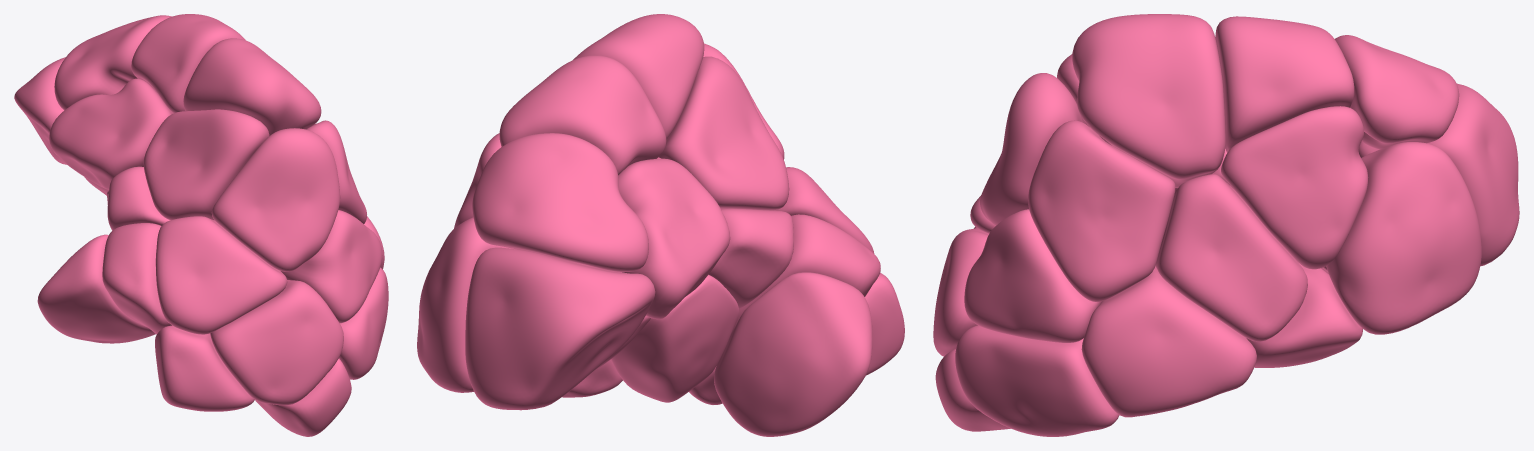
File: intercalated.fbx
3 views of the same model, side by side, from view 1: azimuth 30°, elevation 25°; view 2: azimuth 150°, elevation 25°; view 3: azimuth 270°, elevation 25° (orthographic). The views are drawn at different scales.
Parts seen in each view (by area): view 1: iCells.015, iCells.014, iCells.010, iCells.007, iCells.020, iCells.024, iCells.016, iCells.003, iCells.011, iCells.023, iCells.002, iCells.017 (+5 smaller); view 2: iCells.001, iCells.016, iCells.002, iCells.007, iCells.023, iCells.020, iCells.025, iCells.005, iCells.024, iCells.018, iCells.017, iCells.003 (+5 smaller); view 3: iCells.005, iCells.024, iCells.021, iCells.006, iCells.004, iCells.019, iCells.023, iCells.008, iCells.011, iCells.002, iCells.001, iCells.015 (+4 smaller).
Part boxes in pixels (<box>): iCells.015: <box>211,128,340,271</box>; iCells.014: <box>210,280,343,405</box>; iCells.010: <box>155,216,287,334</box>; iCells.007: <box>143,109,269,219</box>; iCells.020: <box>49,78,173,189</box>; iCells.024: <box>183,38,321,135</box>; iCells.016: <box>37,234,155,343</box>; iCells.003: <box>155,325,254,411</box>; iCells.011: <box>281,210,382,323</box>; iCells.023: <box>131,14,245,112</box>; iCells.002: <box>54,15,171,110</box>; iCells.017: <box>102,223,171,334</box>; iCells.001: <box>465,247,655,410</box>; iCells.016: <box>714,272,872,436</box>; iCells.002: <box>472,133,648,271</box>; iCells.007: <box>659,56,789,210</box>; iCells.023: <box>499,55,666,175</box>; iCells.020: <box>618,158,730,319</box>; iCells.025: <box>611,274,739,402</box>; iCells.005: <box>417,217,514,392</box>; iCells.024: <box>573,14,704,139</box>; iCells.018: <box>709,208,793,308</box>; iCells.017: <box>730,214,880,336</box>; iCells.003: <box>864,273,904,375</box>; iCells.005: <box>1326,142,1481,334</box>; iCells.024: <box>1072,14,1225,187</box>; iCells.021: <box>1028,120,1175,302</box>; iCells.006: <box>1081,266,1256,417</box>; iCells.004: <box>1221,106,1368,269</box>; iCells.019: <box>1155,174,1307,341</box>; iCells.023: <box>1215,16,1354,152</box>; iCells.008: <box>955,325,1119,436</box>; iCells.011: <box>964,209,1101,342</box>; iCells.002: <box>1335,35,1459,149</box>; iCells.001: <box>1358,83,1519,266</box>; iCells.015: <box>980,73,1082,225</box>.
Bounding box in the file's own units: 3701 × 3695 × 4700.
